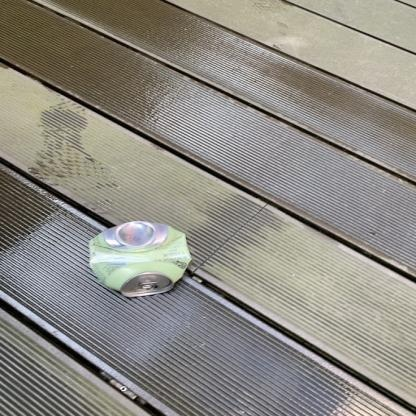trash: (89, 221, 190, 296)
